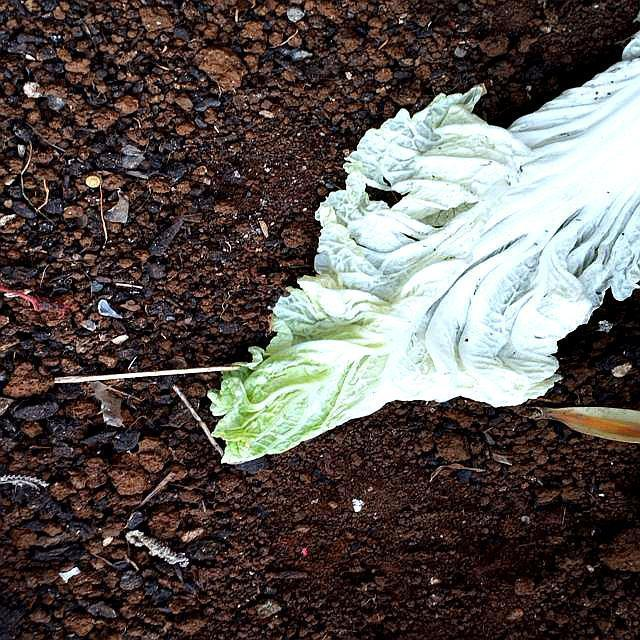Biodegradable: (76, 4, 640, 526)
